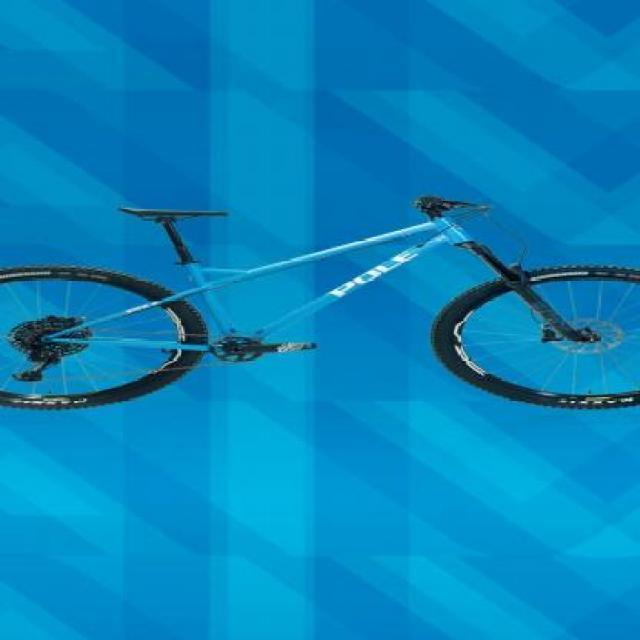bicycle: (10, 201, 640, 412)
